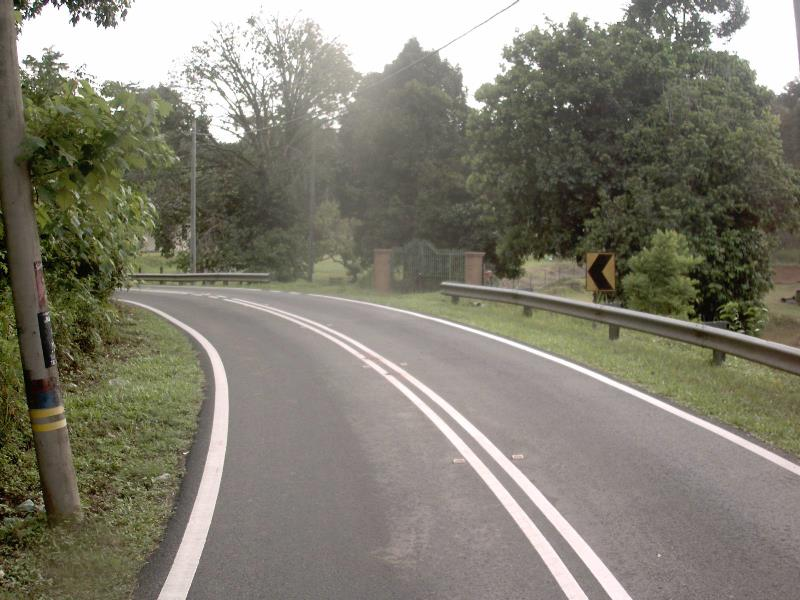traffic_sign: (576, 244, 624, 303)
